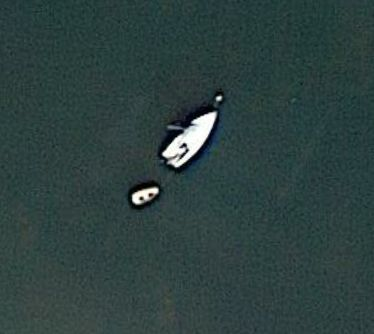boat: (157, 110, 221, 173), (127, 185, 165, 209)
